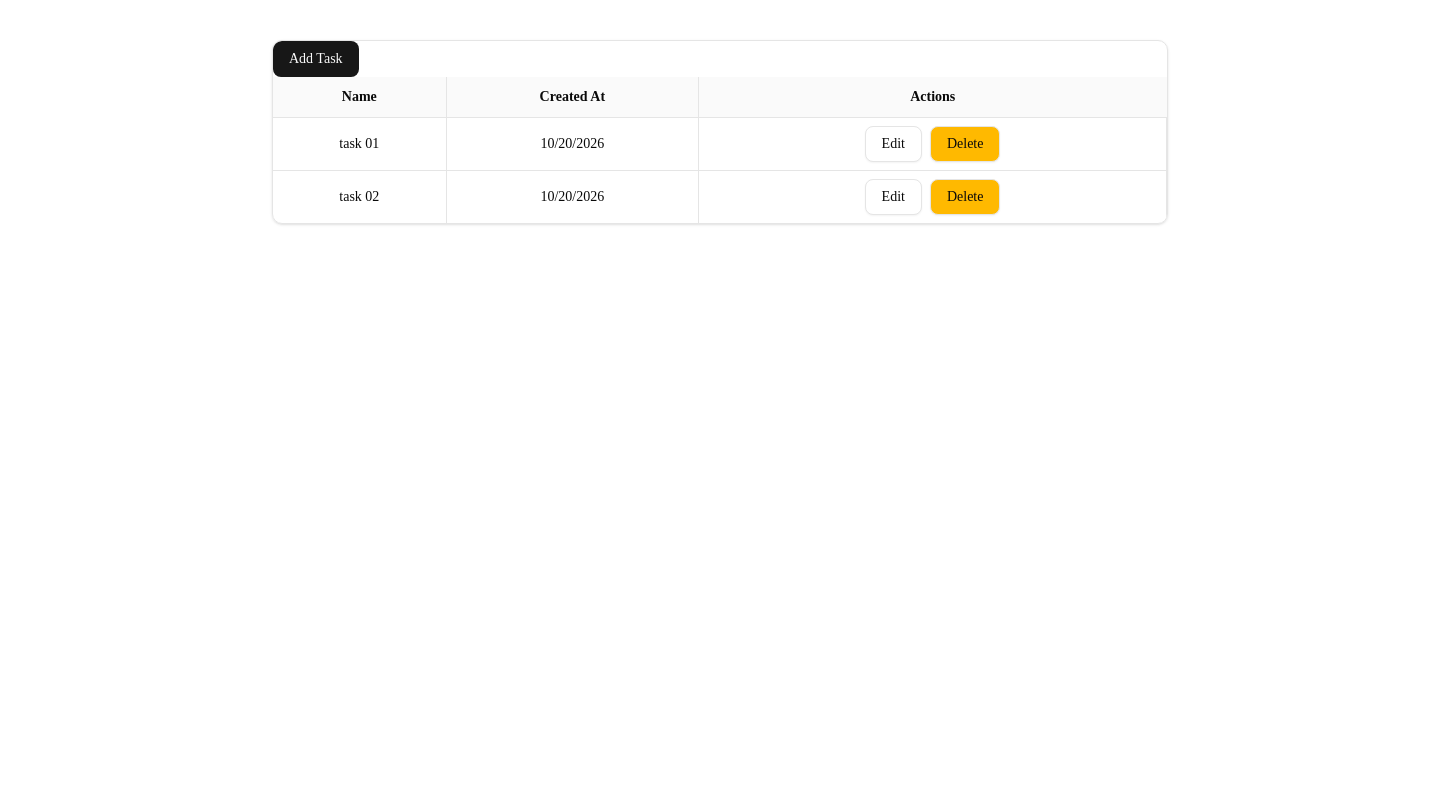
Scenario: Task Table › opens the add task form when user click to add task button
Click the button "Add Task" at (316, 59), box [273,41,359,77]
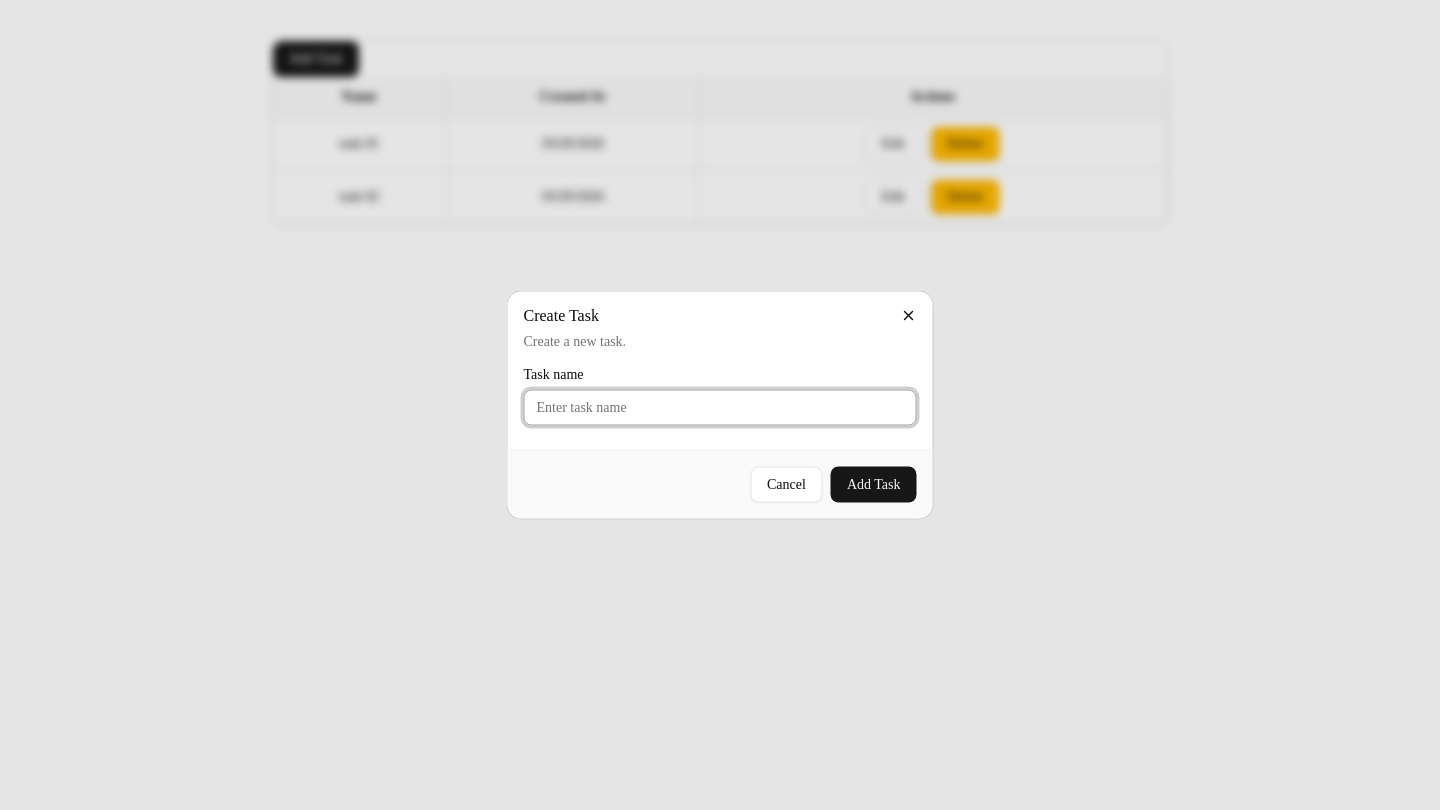
Now the heading "Create Task" is shown, box [524,306,599,324]
Now the field labelled "Task name" is shown, box [524,390,916,426]
